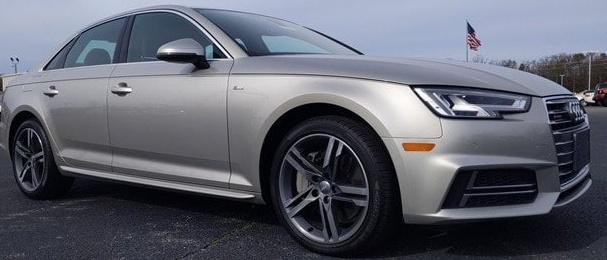Cars: (1, 7, 593, 257)
